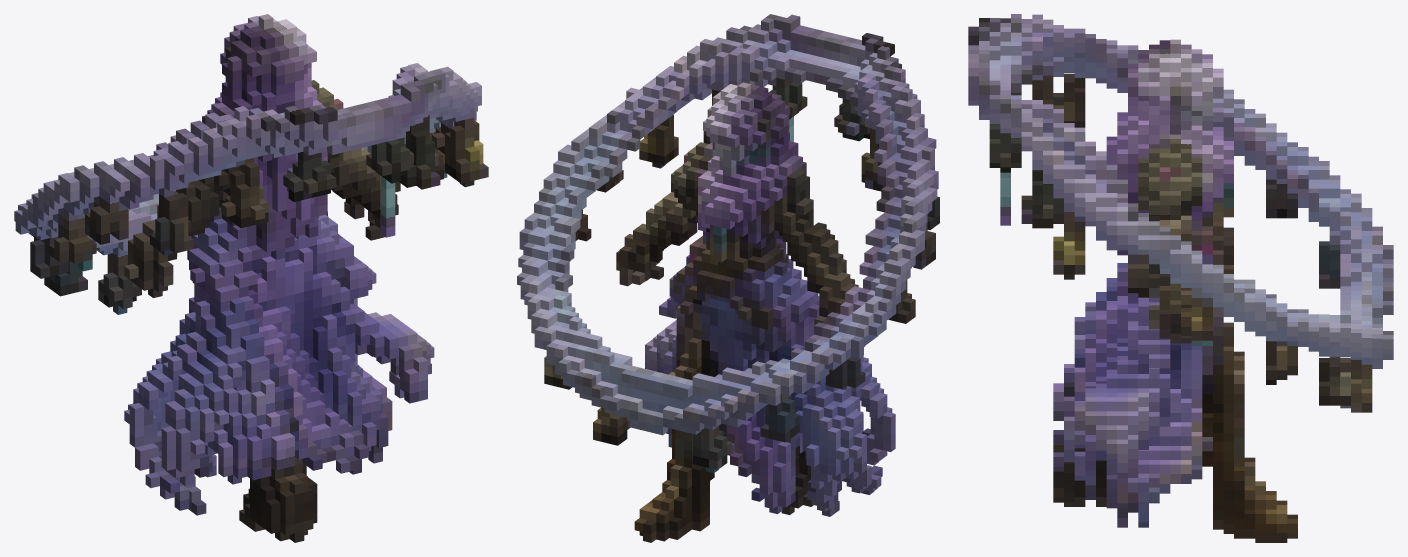
Rendered from u_danseuse.glb.
3 renders of one model, left to right at view 1: azimuth 30°, elevation 25°; view 2: azimuth 150°, elevation 25°; view 3: azimuth 270°, elevation 25°, orthographic. The views are drawn at different scales.
Parts seen in each view (by area): view 1: danseuse_body; view 2: danseuse_body; view 3: danseuse_body.
Boxes of the visible parts, box(x1,y1,x2,y2) form: danseuse_body: box(14, 14, 488, 542); danseuse_body: box(517, 14, 939, 542); danseuse_body: box(968, 14, 1393, 542).
Size of the model in its own units: 1.12 by 1.3 by 1.04.
1 material, 1 textured.
